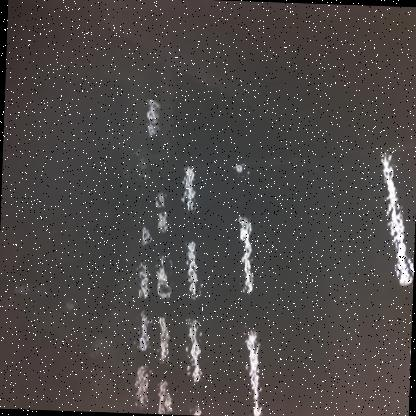Nocrack: (13, 6, 413, 414)
